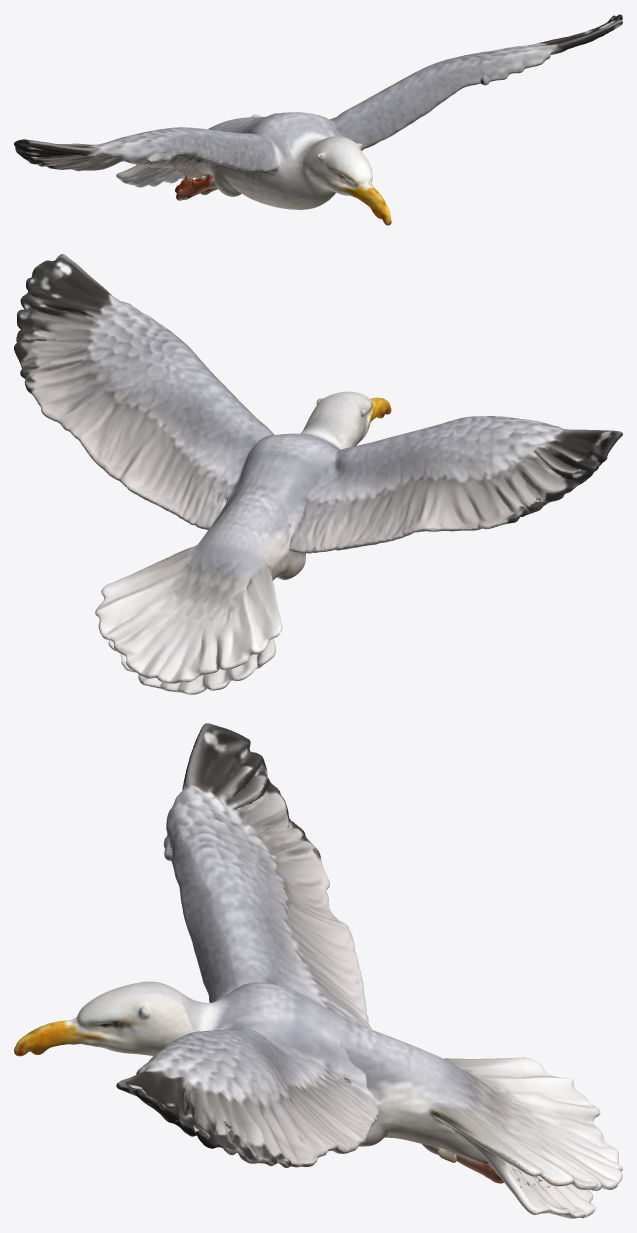
3 renders of one model, top to bottom at view 1: azimuth 30°, elevation 25°; view 2: azimuth 150°, elevation 25°; view 3: azimuth 270°, elevation 25°, orthographic. The views are drawn at different scales.
Parts seen in each view (by area): view 1: geometry_0; view 2: geometry_0; view 3: geometry_0.
Part boxes in pixels (left/top/right/bottom): geometry_0: left=14, top=14, right=622, bottom=225; geometry_0: left=14, top=254, right=622, bottom=694; geometry_0: left=14, top=723, right=622, bottom=1218.
Size of the model in its own units: 1.4 by 0.512 by 0.9456.
1 material, 1 textured.
